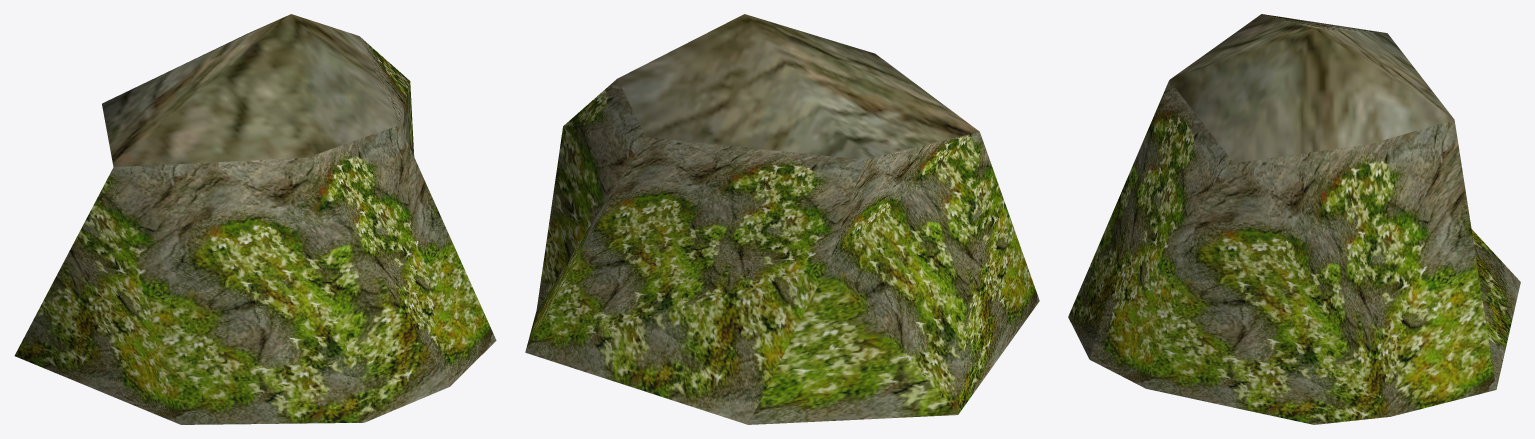
File: rock_liaaba_covered_l4.fbx
3 views of the same model, side by side, from view 1: azimuth 30°, elevation 25°; view 2: azimuth 150°, elevation 25°; view 3: azimuth 270°, elevation 25° (orthographic). The views are drawn at different scales.
Visible parts, largest first — view 1: mesh_node; view 2: mesh_node; view 3: mesh_node.
Part boxes in pixels (bbox=[...]): mesh_node: bbox=[14, 14, 496, 424]; mesh_node: bbox=[525, 14, 1039, 424]; mesh_node: bbox=[1068, 14, 1520, 424].
Bounding box in the file's own units: 3.34 × 2.37 × 3.12.
Materials: 1 (1 with a texture image).
